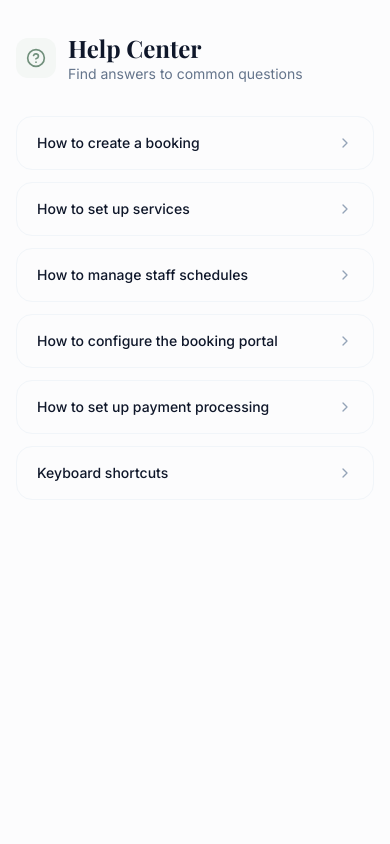
Test: HelpPage › expands FAQ item on click
Check: the text "Navigate to the Bookings page" is not shown
// Click the first FAQ
Click the button "How to create a booking".
click(195, 143)  # box x1=17 y1=117 x2=373 y2=169
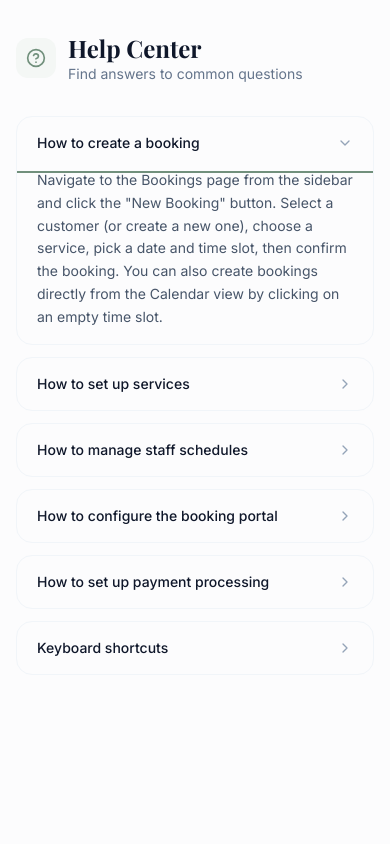
Check: the text "Navigate to the Bookings page" is shown, box x1=37 y1=171 x2=353 y2=324
